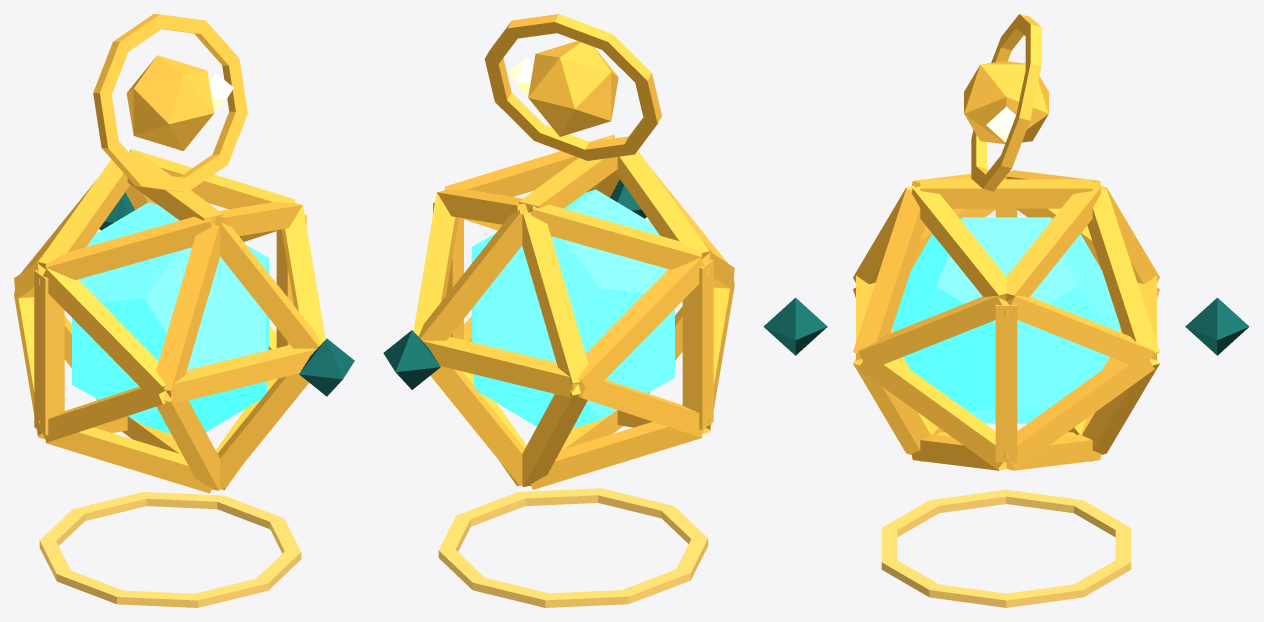
The model's file is traveler-b.glb.
3 views of the same model, side by side, from view 1: azimuth 30°, elevation 25°; view 2: azimuth 150°, elevation 25°; view 3: azimuth 270°, elevation 25° (orthographic). The views are drawn at different scales.
Parts seen in each view (by area): view 1: spinInner, head, beam13, beam10, beam20, beam29, beam9, beam14, beam25, beam15, beam22, beam12 (+33 smaller); view 2: spinInner, head, beam1, beam4, beam22, beam29, beam0, beam5, beam27, beam6, beam20, beam3 (+34 smaller); view 3: spinInner, beam7, beam16, beam5, beam14, head, beam18, beam21, beam19, beam8, beam17, beam28 (+21 smaller).
Boxes of the visible parts, x1,y1,x2,y2 form: spinInner: (72, 202, 269, 433); head: (126, 55, 214, 150); beam13: (38, 268, 165, 400); beam10: (156, 224, 220, 391); beam20: (45, 216, 212, 280); beam29: (34, 270, 64, 435); beam9: (166, 345, 316, 403); beam14: (216, 221, 320, 348); beam25: (45, 427, 211, 493); beam15: (217, 373, 308, 489); beam22: (38, 159, 130, 269); beam12: (38, 384, 165, 442); spinInner: (471, 189, 674, 428); head: (528, 41, 618, 136); beam1: (522, 212, 588, 384); beam4: (578, 258, 709, 387); beam22: (530, 204, 701, 269); beam29: (682, 259, 713, 429); beam0: (422, 337, 577, 397); beam5: (418, 209, 526, 340); beam27: (531, 422, 701, 489); beam6: (430, 366, 524, 486); beam20: (614, 150, 709, 259); beam3: (578, 377, 709, 437); spinInner: (892, 217, 1120, 423); beam7: (1005, 357, 1154, 469); beam16: (858, 357, 1007, 469); beam5: (1087, 189, 1159, 353); beam14: (853, 189, 925, 353); head: (964, 61, 1048, 144); beam18: (920, 179, 1092, 208); beam21: (1006, 186, 1101, 301); beam19: (911, 186, 1006, 300); beam8: (1005, 295, 1154, 369); beam17: (858, 295, 1007, 369); beam28: (995, 301, 1017, 462).
Size of the model in its own units: 1.04 by 1.99 by 1.66.
